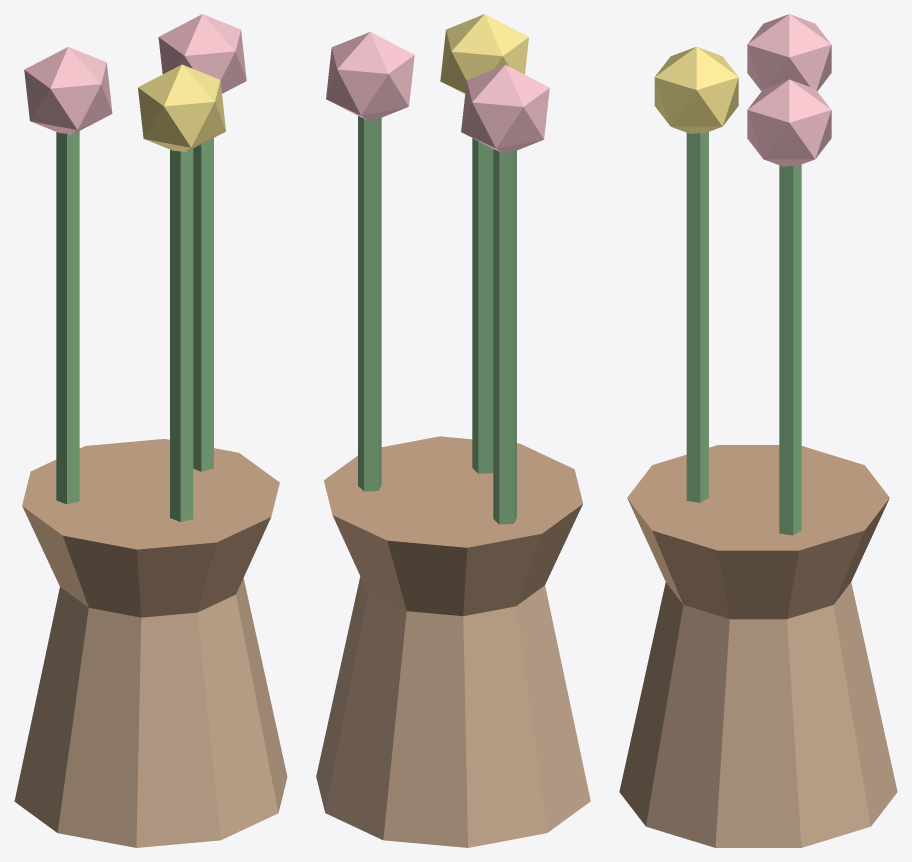
File: 18-Casas_decor_jarron_flores.glb
3 views of the same model, side by side, from view 1: azimuth 30°, elevation 25°; view 2: azimuth 150°, elevation 25°; view 3: azimuth 270°, elevation 25° (orthographic).
Parts seen in each view (by area): view 1: SM_JarronFl_Cuerpo, SM_JarronFl_Boca, SM_JarronFl_Tallo.001, SM_JarronFl_Tallo, SM_JarronFl_Tallo.002, SM_JarronFl_Flor, SM_JarronFl_Flor.001, SM_JarronFl_Flor.002; view 2: SM_JarronFl_Cuerpo, SM_JarronFl_Boca, SM_JarronFl_Tallo.002, SM_JarronFl_Tallo, SM_JarronFl_Tallo.001, SM_JarronFl_Flor, SM_JarronFl_Flor.002, SM_JarronFl_Flor.001; view 3: SM_JarronFl_Cuerpo, SM_JarronFl_Boca, SM_JarronFl_Tallo.001, SM_JarronFl_Tallo.002, SM_JarronFl_Flor.001, SM_JarronFl_Flor.002, SM_JarronFl_Flor.
Part boxes in pixels (box(x1,y1,x2,y2)): SM_JarronFl_Cuerpo: box(14, 578, 287, 847); SM_JarronFl_Boca: box(22, 439, 279, 617); SM_JarronFl_Tallo.001: box(170, 148, 193, 521); SM_JarronFl_Tallo: box(56, 131, 79, 504); SM_JarronFl_Tallo.002: box(193, 138, 213, 471); SM_JarronFl_Flor: box(24, 47, 112, 134); SM_JarronFl_Flor.001: box(138, 64, 225, 152); SM_JarronFl_Flor.002: box(158, 14, 246, 93); SM_JarronFl_Cuerpo: box(316, 576, 590, 847); SM_JarronFl_Boca: box(324, 436, 582, 616); SM_JarronFl_Tallo.002: box(358, 116, 381, 491); SM_JarronFl_Tallo: box(493, 149, 516, 524); SM_JarronFl_Tallo.001: box(472, 138, 493, 473); SM_JarronFl_Flor: box(461, 65, 549, 153); SM_JarronFl_Flor.002: box(326, 32, 414, 120); SM_JarronFl_Flor.001: box(440, 14, 528, 93); SM_JarronFl_Cuerpo: box(619, 582, 897, 847); SM_JarronFl_Boca: box(627, 445, 889, 619); SM_JarronFl_Tallo.001: box(686, 132, 708, 502); SM_JarronFl_Tallo.002: box(779, 164, 801, 535); SM_JarronFl_Flor.001: box(654, 46, 738, 133); SM_JarronFl_Flor.002: box(747, 79, 831, 166); SM_JarronFl_Flor: box(747, 14, 831, 91).
Size of the model in its own units: 0.1712 by 0.532 by 0.18.
